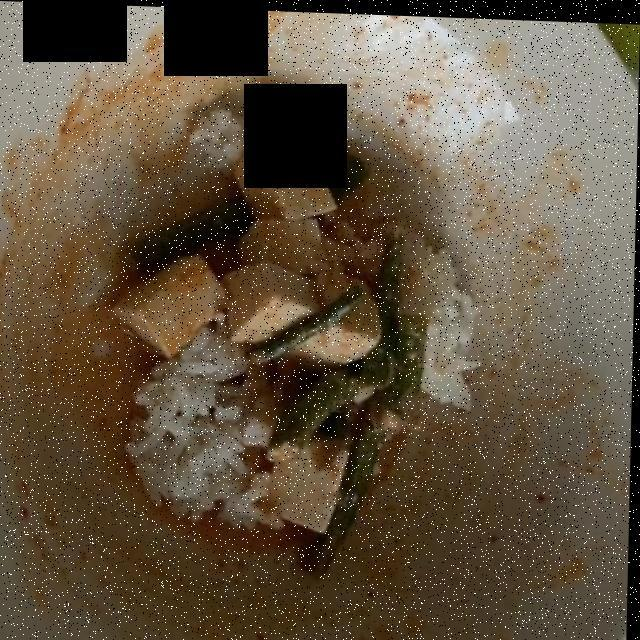green-bean: (141, 151, 422, 579)
rice: (139, 108, 483, 526)
sauce: (89, 287, 304, 549)
tofu: (120, 101, 377, 531)
